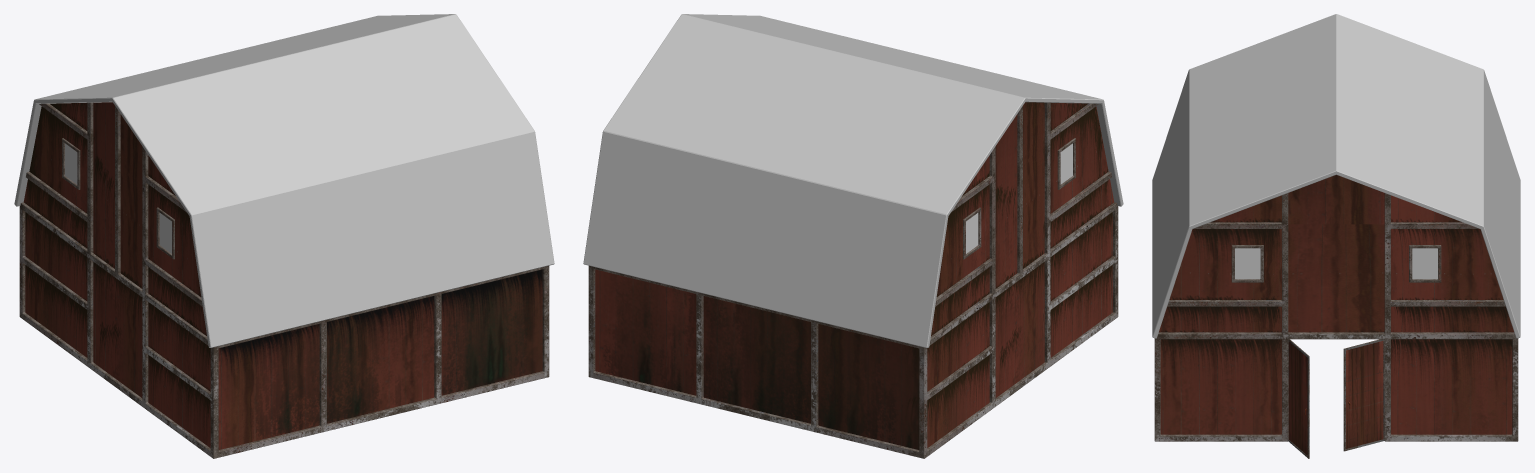
File: barn.fbx
The picture shows the model from 3 angles, left to right: view 1: azimuth 30°, elevation 25°; view 2: azimuth 150°, elevation 25°; view 3: azimuth 270°, elevation 25°; orthographic projection. The views are drawn at different scales.
Parts seen in each view (by area): view 1: Roof, Walls, Beams, Vitres; view 2: Roof, Walls, Beams, Vitres; view 3: Roof, Walls, Beams, Doors, Vitres.
Boxes of the visible parts, left/top/right/bottom form: Roof: left=14, top=14, right=554, bottom=347; Walls: left=23, top=102, right=542, bottom=449; Beams: left=19, top=102, right=549, bottom=458; Vitres: left=65, top=143, right=171, bottom=253; Roof: left=583, top=14, right=1123, bottom=347; Walls: left=595, top=102, right=1114, bottom=449; Beams: left=588, top=102, right=1118, bottom=458; Vitres: left=966, top=143, right=1072, bottom=253; Roof: left=1152, top=14, right=1520, bottom=338; Walls: left=1159, top=175, right=1513, bottom=434; Beams: left=1154, top=193, right=1518, bottom=441; Doors: left=1288, top=339, right=1384, bottom=458; Vitres: left=1235, top=248, right=1437, bottom=279.
Size of the model in its own units: 685 by 505 by 618.
